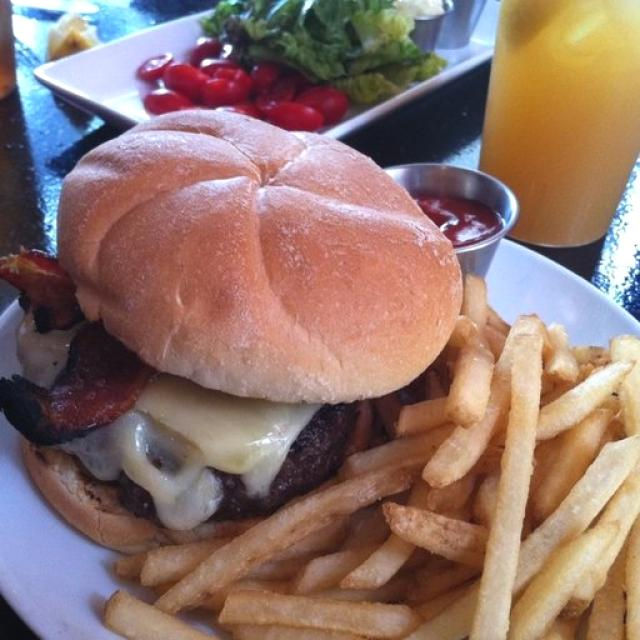burger: (8, 97, 425, 551)
